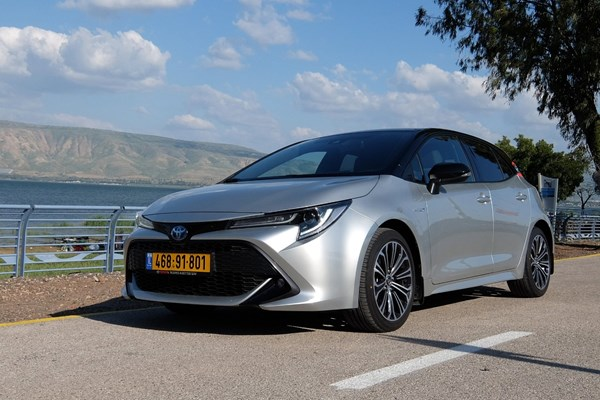licence: (142, 250, 215, 275)
